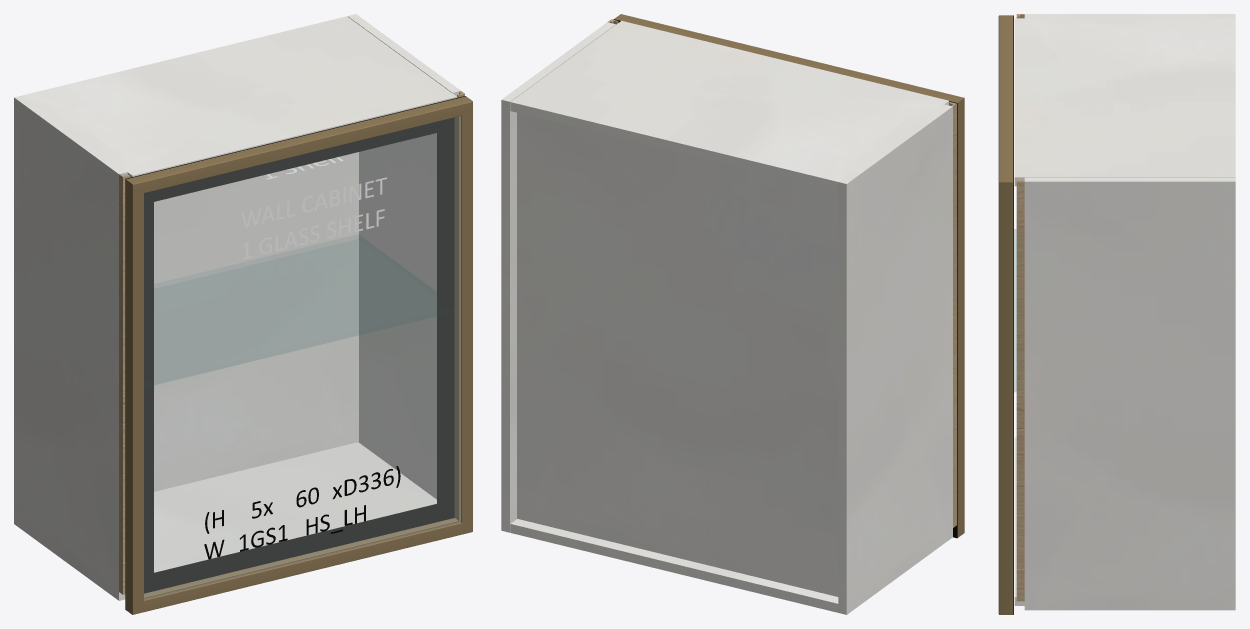
File: WC-SH-NHX-GL-1SG-LHS-XXX-600-725-336-15.glb
The picture shows the model from 3 angles, left to right: view 1: azimuth 30°, elevation 25°; view 2: azimuth 150°, elevation 25°; view 3: azimuth 270°, elevation 25°; orthographic projection.
Parts seen in each view (by area): view 1: Object_node_4, TP_node_2, TP_node_0, TP, Neon 22 Profile ALU PROF NEON 20 L21XH22.5MM 3MTR S2/405 SEC (×4), TP_node_1, Object_node_6, TP_node, Object_node_8, 2D text_node, 2D text_node_0, 2D text; view 2: TP_node_2, TP_node_0, TP, TP_node_1, Neon 22 Profile ALU PROF NEON 20 L21XH22.5MM 3MTR S2/405 SEC (×2), TP_node, Object_node_8; view 3: TP_node_1, TP, Neon 22 Profile ALU PROF NEON 20 L21XH22.5MM 3MTR S2/405 SEC (×2), Object_node_16, TP_node_0, Object_node_6, TP_node.
Part boxes in pixels (<box>): Object_node_4: <box>144,116,460,599</box>; TP_node_2: <box>154,152,358,491</box>; TP_node_0: <box>14,95,127,600</box>; TP: <box>23,16,456,177</box>; Neon 22 Profile ALU PROF NEON 20 L21XH22.5MM 3MTR S2/405 SEC (×4): <box>125,96,472,614</box>; TP_node_1: <box>347,14,460,499</box>; Object_node_6: <box>125,96,465,609</box>; TP_node: <box>154,442,436,572</box>; Object_node_8: <box>119,174,129,594</box>; 2D text_node: <box>241,177,386,259</box>; 2D text_node_0: <box>205,466,400,533</box>; 2D text: <box>204,505,365,559</box>; TP_node_2: <box>517,112,838,596</box>; TP_node_0: <box>838,104,952,614</box>; TP: <box>510,20,949,190</box>; TP_node_1: <box>501,22,615,532</box>; Neon 22 Profile ALU PROF NEON 20 L21XH22.5MM 3MTR S2/405 SEC (×2): <box>614,14,964,537</box>; TP_node: <box>510,519,838,612</box>; Object_node_8: <box>949,102,956,527</box>; TP_node_1: <box>1024,177,1235,610</box>; TP: <box>1014,18,1235,186</box>; Neon 22 Profile ALU PROF NEON 20 L21XH22.5MM 3MTR S2/405 SEC (×2): <box>998,15,1013,614</box>; Object_node_16: <box>1016,178,1024,601</box>; TP_node_0: <box>1024,14,1235,18</box>; Object_node_6: <box>1013,15,1013,614</box>; TP_node: <box>1014,437,1024,605</box>.
Size of what is drawn, in the model's own units: 0.6 by 0.7235 by 0.366.
8 materials, 2 textured.
